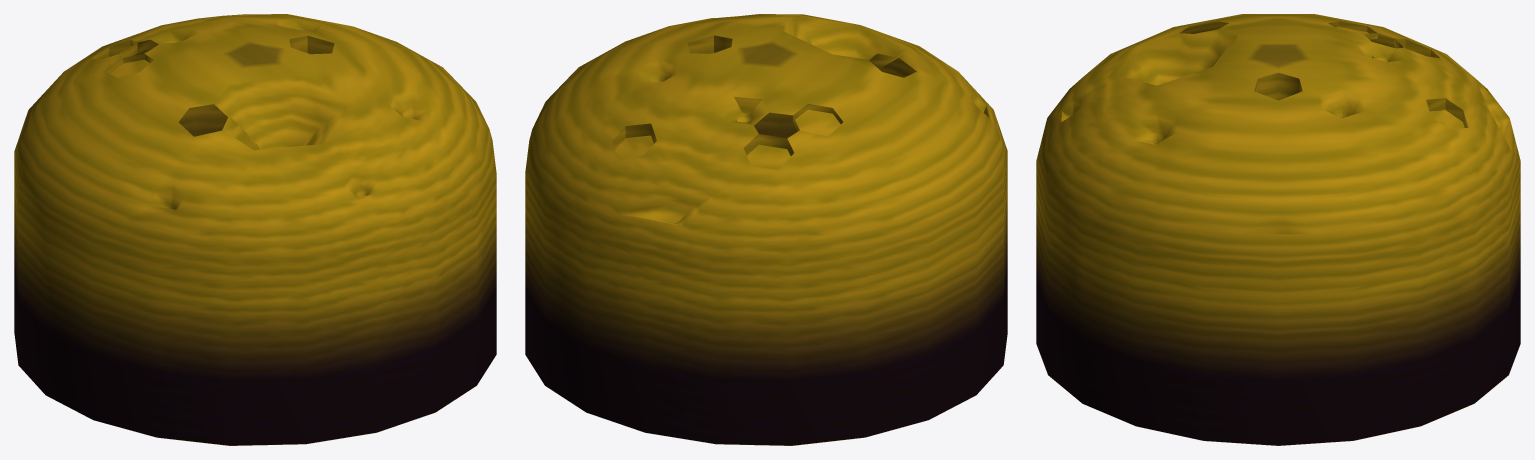
The model's file is caveSky.fbx.
3 views of the same model, side by side, from view 1: azimuth 30°, elevation 25°; view 2: azimuth 150°, elevation 25°; view 3: azimuth 270°, elevation 25° (orthographic).
Parts seen in each view (by area): view 1: GeoSphere001; view 2: GeoSphere001; view 3: GeoSphere001.
Part boxes in pixels (x1,y1,x2,y2): GeoSphere001: [14, 14, 496, 445]; GeoSphere001: [525, 14, 1007, 445]; GeoSphere001: [1036, 14, 1520, 445].
Size of the model in its own units: 63.56 by 41.84 by 63.56.
1 material, 1 textured.
